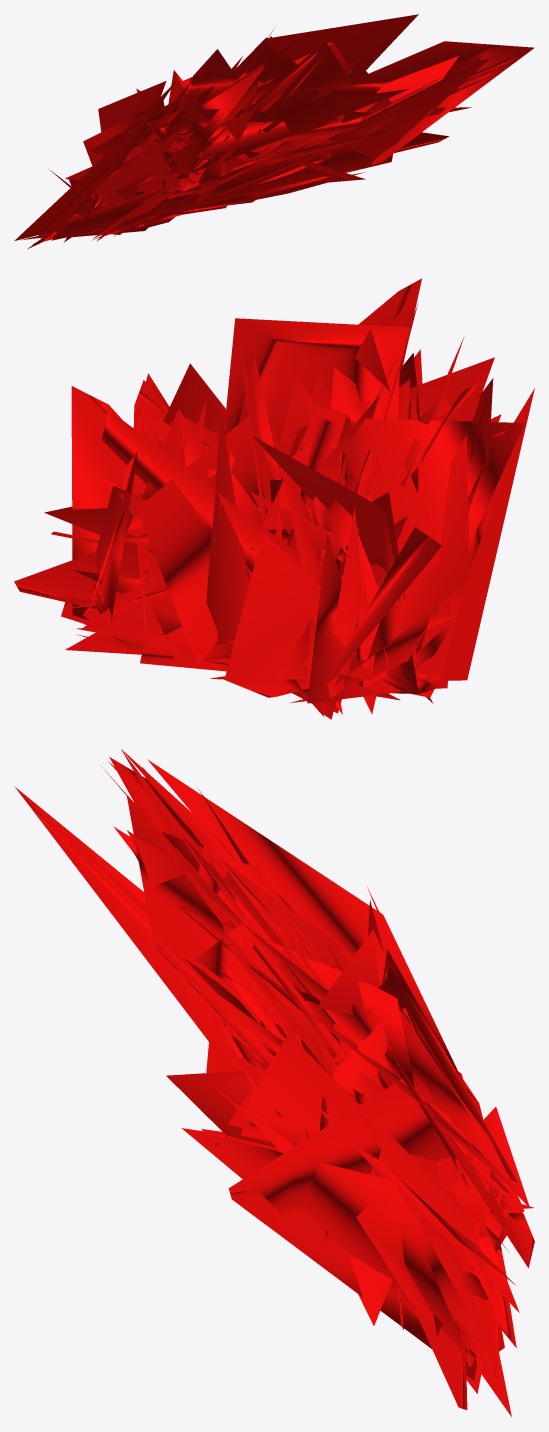
3 renders of one model, top to bottom at view 1: azimuth 30°, elevation 25°; view 2: azimuth 150°, elevation 25°; view 3: azimuth 270°, elevation 25°, orthographic. The views are drawn at different scales.
Visible parts, largest first — view 1: Renderer Node; view 2: Renderer Node; view 3: Renderer Node.
Part boxes in pixels (x1,y1,x2,y2): Renderer Node: [14, 14, 534, 249]; Renderer Node: [14, 278, 534, 719]; Renderer Node: [14, 749, 534, 1416].
Size of the model in its own units: 0.3938 by 0.2508 by 0.2442.
Materials: 1 (1 with a texture image).
